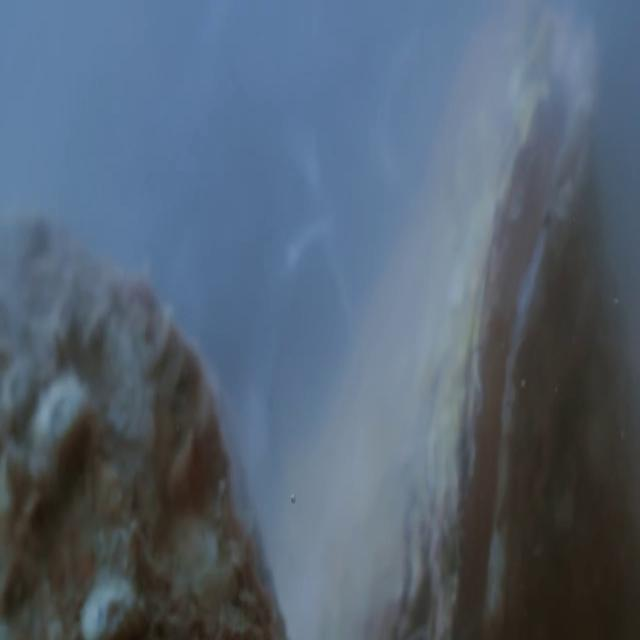Oyster-Indeterminate: (0, 200, 296, 639)
Oyster-Open: (374, 12, 634, 639)
